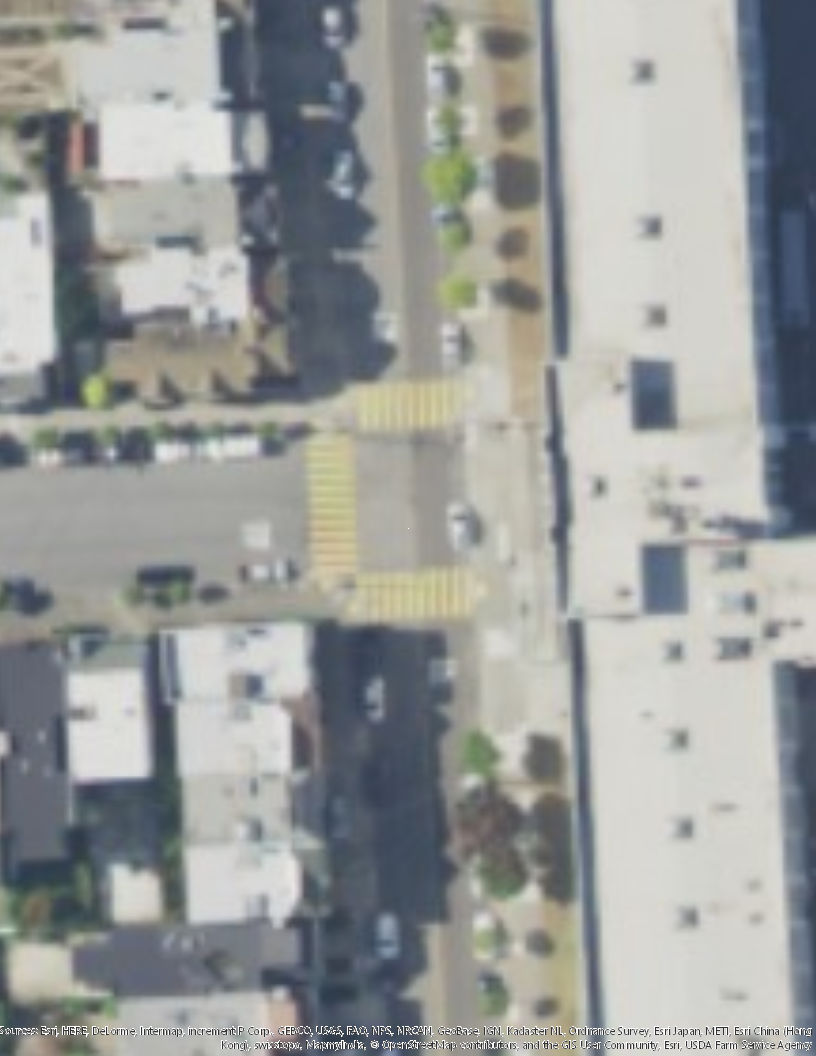zebracross: (304, 429, 359, 576), (351, 567, 476, 618), (352, 379, 465, 427)
